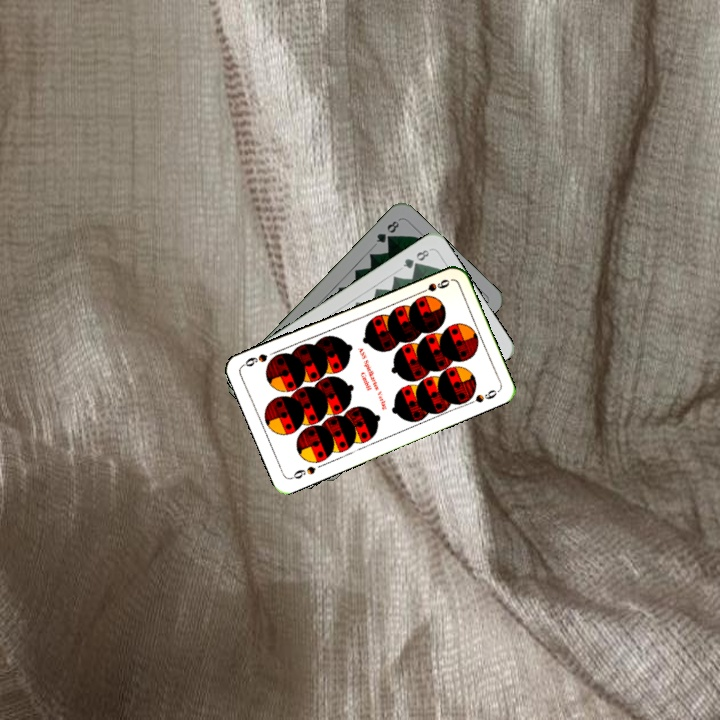G8: (372, 216, 402, 246), (399, 245, 432, 271)
S9: (414, 275, 452, 297), (287, 462, 318, 482)
